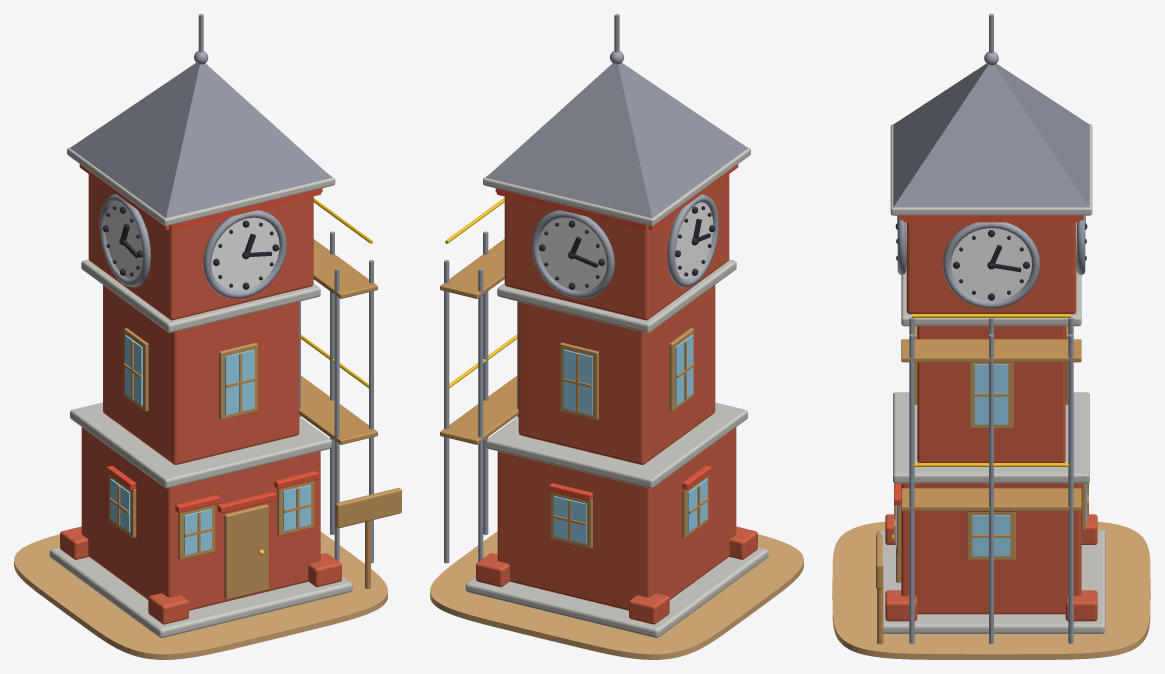
File: clock-tower-stage-3.808a196f.glb
3 views of the same model, side by side, from view 1: azimuth 30°, elevation 25°; view 2: azimuth 150°, elevation 25°; view 3: azimuth 270°, elevation 25° (orthographic). The views are drawn at different scales.
Parts seen in each view (by area): view 1: ClockTower_Stage3__T_brickwall, ClockTower_Stage3__T_roofgray, ClockTower_Stage3__T_concrete, ClockTower_Stage3__T_wood, ClockTower_Stage3__T_dirt, ClockTower_Stage3__T_steel, ClockTower_Stage3__T_white, ClockTower_Stage3__T_glass, ClockTower_Stage3__T_beam, ClockTower_Stage3__T_brick, ClockTower_Stage3__T_dark, ClockTower_Stage3__T_yellow; view 2: ClockTower_Stage3__T_brickwall, ClockTower_Stage3__T_roofgray, ClockTower_Stage3__T_concrete, ClockTower_Stage3__T_dirt, ClockTower_Stage3__T_steel, ClockTower_Stage3__T_wood, ClockTower_Stage3__T_white, ClockTower_Stage3__T_glass, ClockTower_Stage3__T_brick, ClockTower_Stage3__T_beam, ClockTower_Stage3__T_dark, ClockTower_Stage3__T_yellow; view 3: ClockTower_Stage3__T_brickwall, ClockTower_Stage3__T_roofgray, ClockTower_Stage3__T_concrete, ClockTower_Stage3__T_dirt, ClockTower_Stage3__T_wood, ClockTower_Stage3__T_steel, ClockTower_Stage3__T_white, ClockTower_Stage3__T_glass, ClockTower_Stage3__T_brick, ClockTower_Stage3__T_beam, ClockTower_Stage3__T_yellow, ClockTower_Stage3__T_dark.
Boxes of the visible parts, left/top/right/bottom form: ClockTower_Stage3__T_brickwall: left=81, top=174, right=320, bottom=610; ClockTower_Stage3__T_roofgray: left=70, top=63, right=331, bottom=218; ClockTower_Stage3__T_concrete: left=49, top=147, right=352, bottom=637; ClockTower_Stage3__T_wood: left=109, top=239, right=401, bottom=599; ClockTower_Stage3__T_dirt: left=14, top=531, right=387, bottom=659; ClockTower_Stage3__T_steel: left=99, top=14, right=373, bottom=563; ClockTower_Stage3__T_white: left=105, top=202, right=279, bottom=291; ClockTower_Stage3__T_glass: left=110, top=335, right=310, bottom=555; ClockTower_Stage3__T_beam: left=79, top=164, right=322, bottom=513; ClockTower_Stage3__T_brick: left=60, top=526, right=341, bottom=624; ClockTower_Stage3__T_dark: left=102, top=206, right=279, bottom=289; ClockTower_Stage3__T_yellow: left=301, top=198, right=372, bottom=388; ClockTower_Stage3__T_brickwall: left=497, top=174, right=736, bottom=610; ClockTower_Stage3__T_roofgray: left=486, top=63, right=747, bottom=218; ClockTower_Stage3__T_concrete: left=465, top=147, right=768, bottom=638; ClockTower_Stage3__T_dirt: left=430, top=531, right=803, bottom=659; ClockTower_Stage3__T_steel: left=444, top=14, right=718, bottom=563; ClockTower_Stage3__T_wood: left=440, top=239, right=708, bottom=548; ClockTower_Stage3__T_white: left=538, top=202, right=713, bottom=291; ClockTower_Stage3__T_glass: left=553, top=335, right=707, bottom=543; ClockTower_Stage3__T_brick: left=476, top=526, right=757, bottom=624; ClockTower_Stage3__T_beam: left=495, top=164, right=738, bottom=501; ClockTower_Stage3__T_dark: left=539, top=206, right=715, bottom=289; ClockTower_Stage3__T_yellow: left=445, top=198, right=517, bottom=388; ClockTower_Stage3__T_brickwall: left=901, top=222, right=1081, bottom=614; ClockTower_Stage3__T_roofgray: left=893, top=63, right=1089, bottom=207; ClockTower_Stage3__T_concrete: left=877, top=124, right=1105, bottom=633; ClockTower_Stage3__T_dirt: left=832, top=521, right=1150, bottom=659; ClockTower_Stage3__T_wood: left=876, top=326, right=1088, bottom=644; ClockTower_Stage3__T_steel: left=897, top=14, right=1085, bottom=643; ClockTower_Stage3__T_white: left=906, top=222, right=1076, bottom=301; ClockTower_Stage3__T_glass: left=895, top=364, right=1087, bottom=556; ClockTower_Stage3__T_brick: left=885, top=514, right=1097, bottom=621; ClockTower_Stage3__T_beam: left=894, top=215, right=1083, bottom=511; ClockTower_Stage3__T_yellow: left=912, top=314, right=1070, bottom=466; ClockTower_Stage3__T_dark: left=895, top=216, right=1087, bottom=300.
Bounding box in the file's own units: 4.98 × 9.62 × 4.8.
